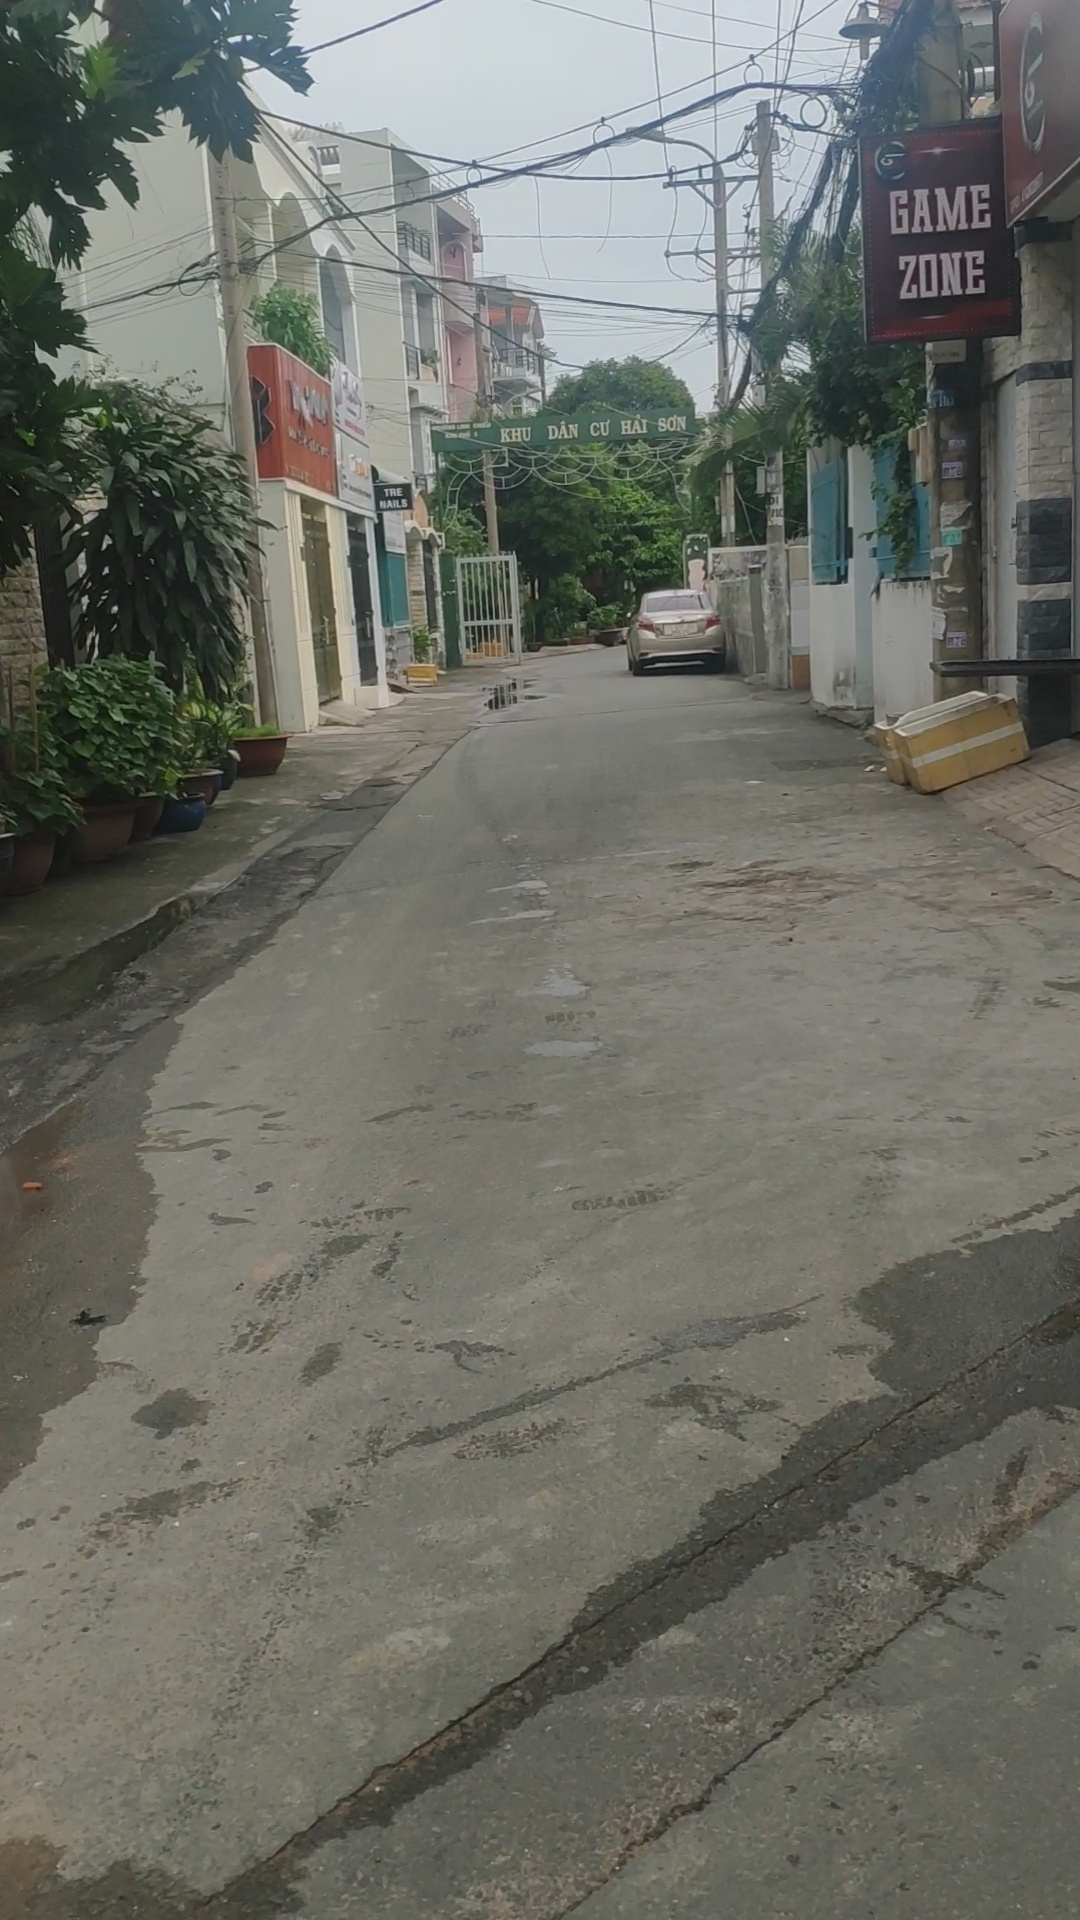hole: (1, 878, 232, 1050), (471, 673, 553, 720), (338, 775, 404, 803)
